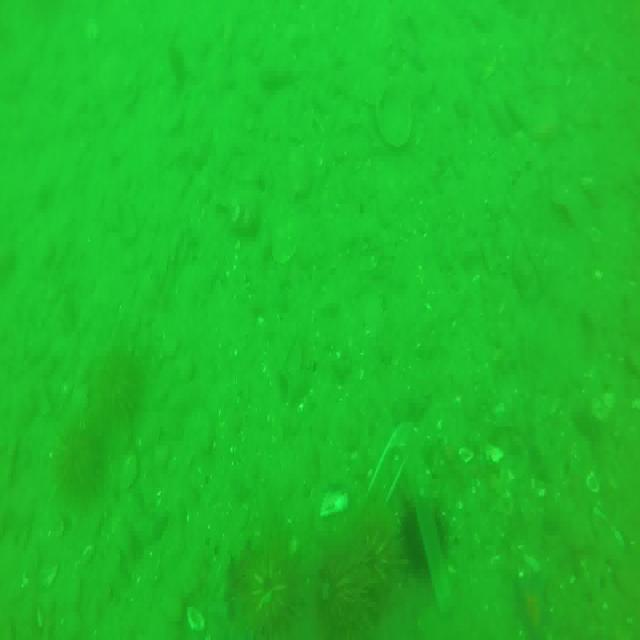echinus: (321, 529, 397, 640), (241, 542, 302, 640), (94, 344, 146, 435), (52, 426, 104, 506), (405, 497, 452, 579)
scallop: (372, 86, 413, 150)
starfish: (518, 578, 550, 640)
